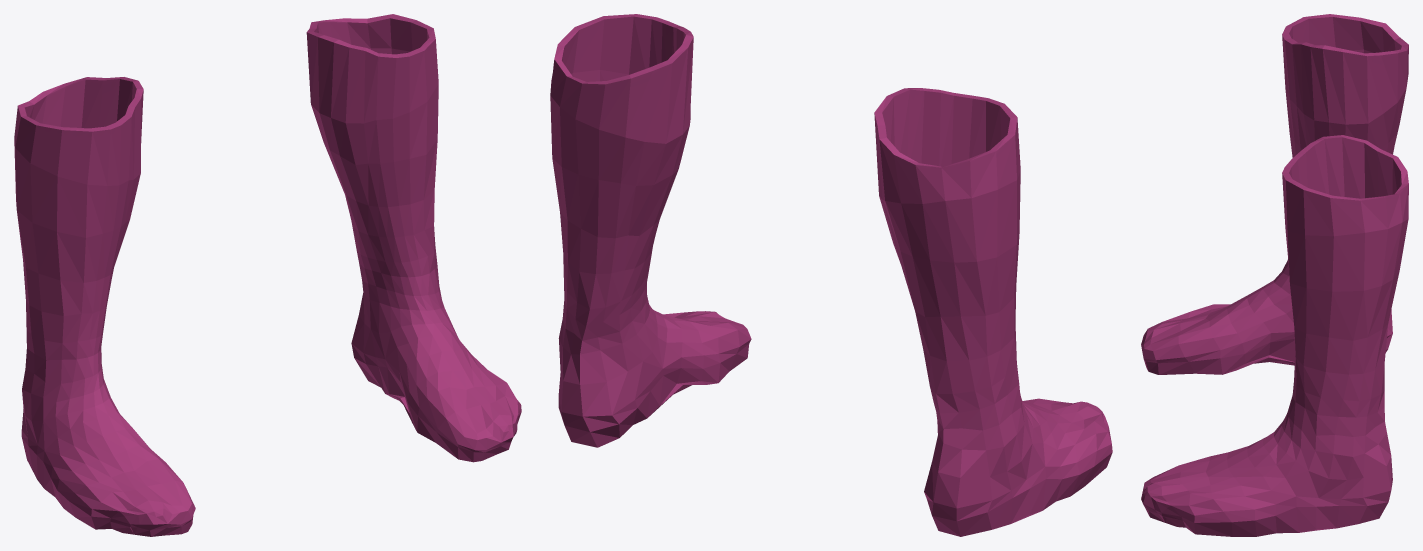
Rendered from mhw_culturalibre_heroine_boots_3.glb.
3 views of the same model, side by side, from view 1: azimuth 30°, elevation 25°; view 2: azimuth 150°, elevation 25°; view 3: azimuth 270°, elevation 25° (orthographic). The views are drawn at different scales.
Parts seen in each view (by area): view 1: mhw_culturalibre_heroine_boots_3; view 2: mhw_culturalibre_heroine_boots_3; view 3: mhw_culturalibre_heroine_boots_3.
Part boxes in pixels (x1,y1,x2,y2): mhw_culturalibre_heroine_boots_3: (14, 14, 521, 536); mhw_culturalibre_heroine_boots_3: (550, 14, 1112, 536); mhw_culturalibre_heroine_boots_3: (1141, 14, 1408, 536).
Bounding box in the file's own units: 0.549 × 0.4416 × 0.3078.
1 material, 1 textured.
